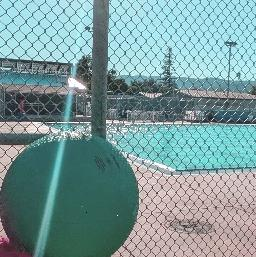algae: (1, 135, 139, 257)
